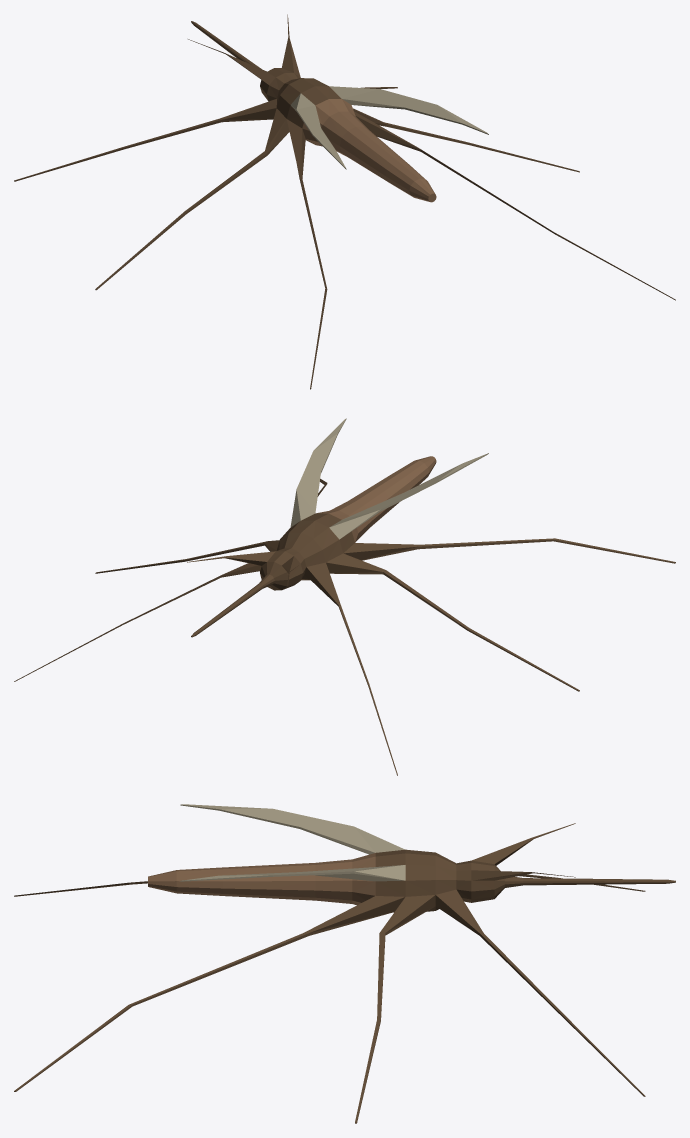
File: NEW_RECOVERY_070_LOD2.fbx
3 views of the same model, one above another, from view 1: azimuth 30°, elevation 25°; view 2: azimuth 150°, elevation 25°; view 3: azimuth 270°, elevation 25° (orthographic). The views are drawn at different scales.
Visible parts, largest first — view 1: Mosquito; view 2: Mosquito; view 3: Mosquito.
Boxes of the visible parts, x1,y1,x2,y2 form: Mosquito: [14, 14, 675, 389]; Mosquito: [14, 418, 675, 775]; Mosquito: [14, 804, 675, 1123].
Size of the model in its own units: 530 by 573 by 145.
